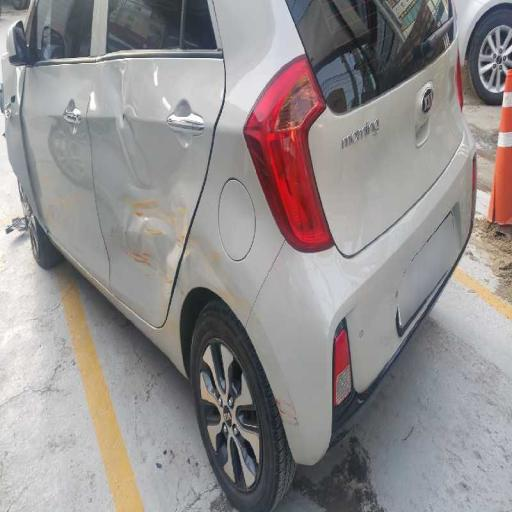dent: (36, 53, 212, 193)
scratch: (104, 154, 249, 334), (270, 364, 302, 460)
